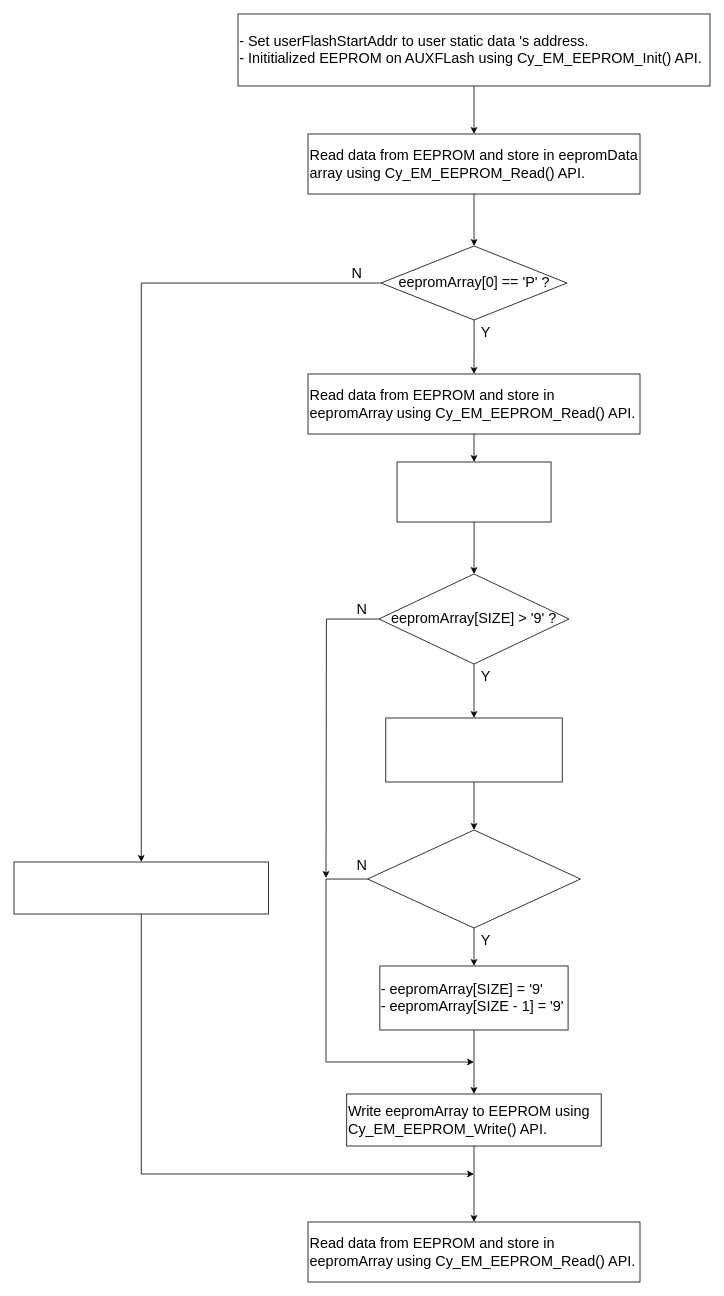
The diagram is 724 pixels wide and 1296 high, and some of its shapes have lost their labels. The centre of each missing label's shape, as x and y in pixels:
- eepromArray[SIZE] = '0' - eepromArray[SIZE - 1] ++: (473,749)
eepromArray[SIZE] ++: (473,491)
eepromData[SIZE - 1] > '9' ?: (473,878)
Write "Power Cycle #00" to EEPROM using Cy_EM_EEPROM_Write() API.: (140,887)
